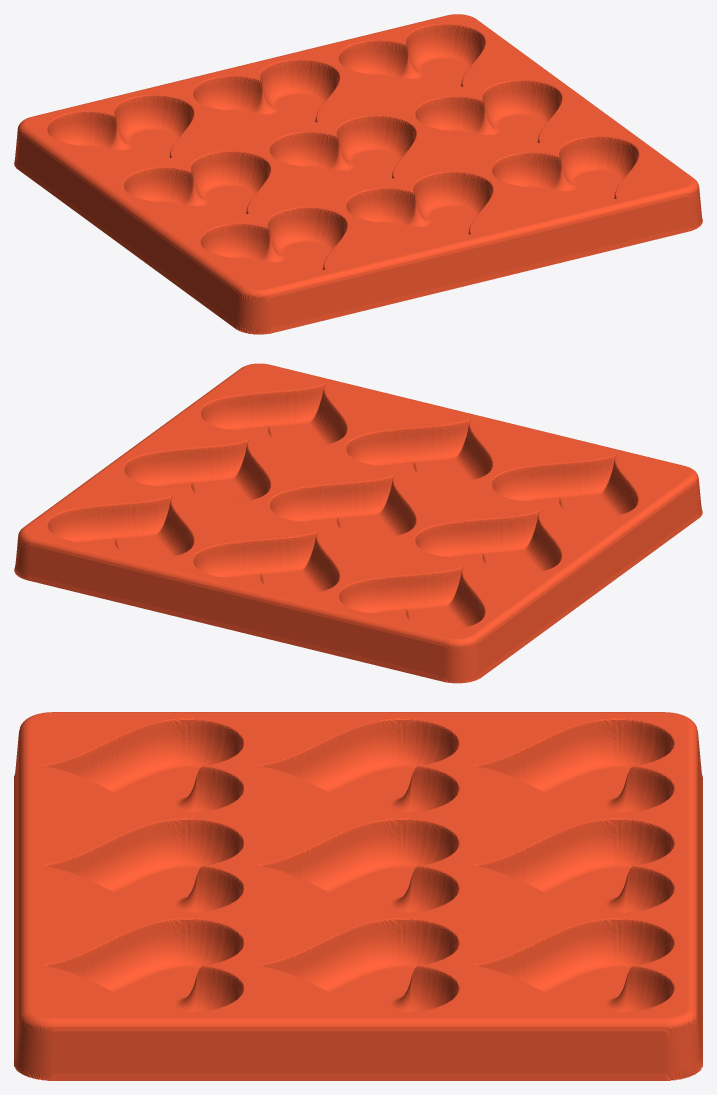
Rendered from mold.glb.
The picture shows the model from 3 angles, top to bottom: view 1: azimuth 30°, elevation 25°; view 2: azimuth 150°, elevation 25°; view 3: azimuth 270°, elevation 25°; orthographic projection. The views are drawn at different scales.
Visible parts, largest first — view 1: geometry_0; view 2: geometry_0; view 3: geometry_0.
Part boxes in pixels (x1=…): geometry_0: x1=14, y1=14, x2=702, y2=334; geometry_0: x1=14, y1=363, x2=702, y2=683; geometry_0: x1=14, y1=712, x2=702, y2=1080.
Bounding box in the file's own units: 0.1749 × 0.0145 × 0.1603.
